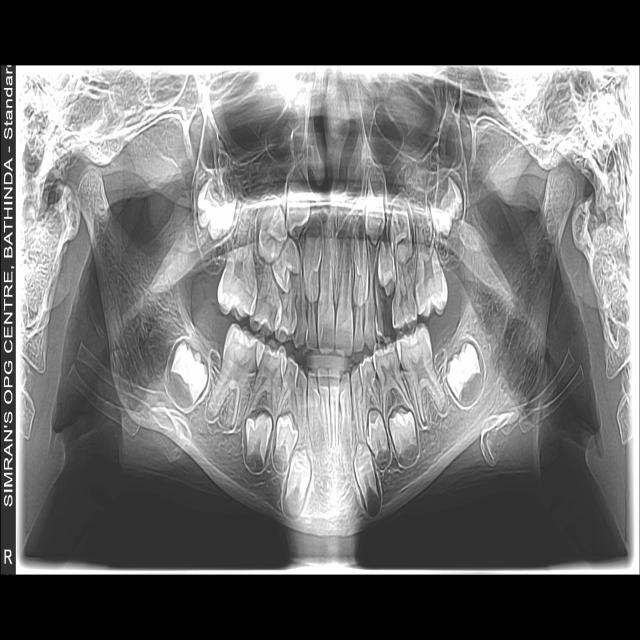Caries: (360, 354, 379, 410), (379, 299, 392, 340), (373, 355, 378, 370), (371, 357, 376, 372)
